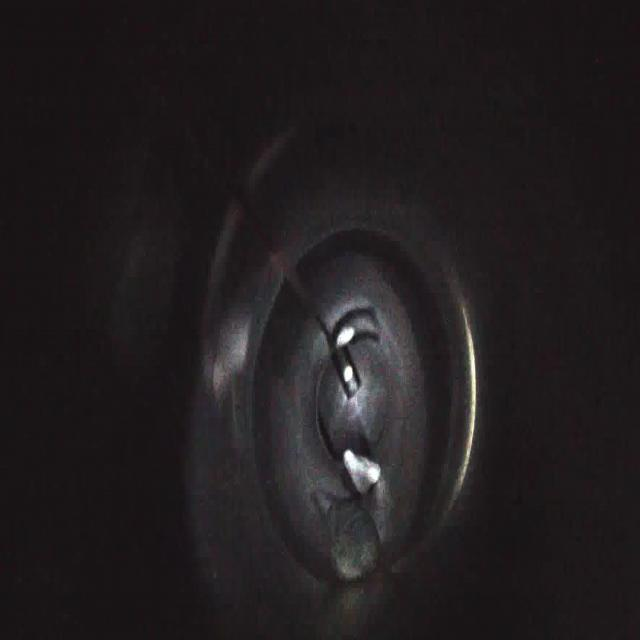impurity: (324, 498, 380, 586), (340, 446, 384, 497)
